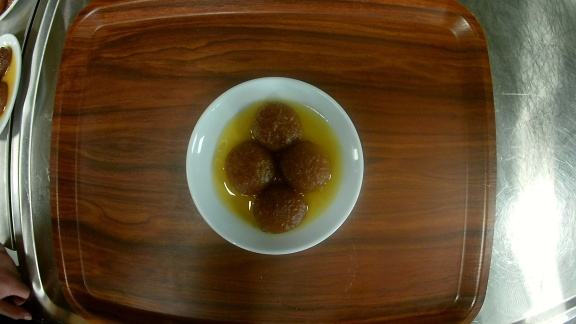kemalpasa: (186, 77, 365, 254)
